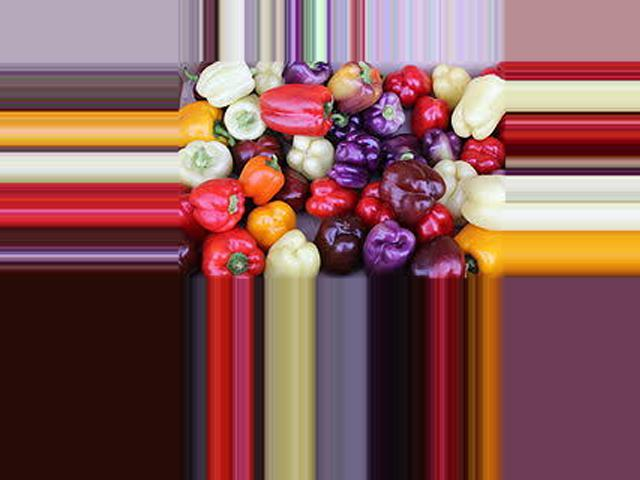bell_pepper: (178, 144, 236, 183)
